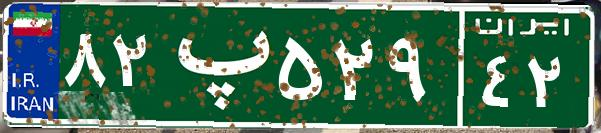2: (330, 28, 385, 110), (110, 28, 158, 105), (525, 38, 570, 115)
4: (475, 38, 525, 113)
5: (273, 28, 330, 110)
8: (57, 26, 110, 107)
9: (385, 28, 445, 110)
پ: (158, 15, 273, 115)
